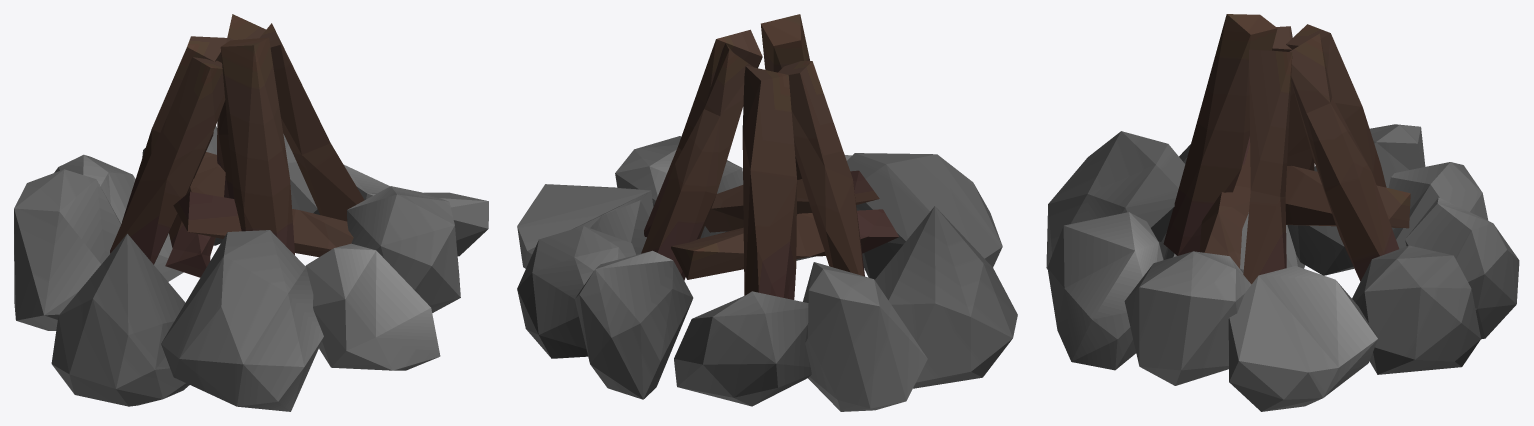
Rendered from Campfire.fbx.
3 renders of one model, left to right at view 1: azimuth 30°, elevation 25°; view 2: azimuth 150°, elevation 25°; view 3: azimuth 270°, elevation 25°, orthographic. The views are drawn at different scales.
Visible parts, largest first — view 1: Campfire; view 2: Campfire; view 3: Campfire.
Boxes of the visible parts, x1,y1,x2,y2 form: Campfire: (14, 14, 488, 411); Campfire: (517, 14, 1017, 411); Campfire: (1046, 14, 1519, 411).
Bounding box in the file's own units: 329 × 228 × 300.
